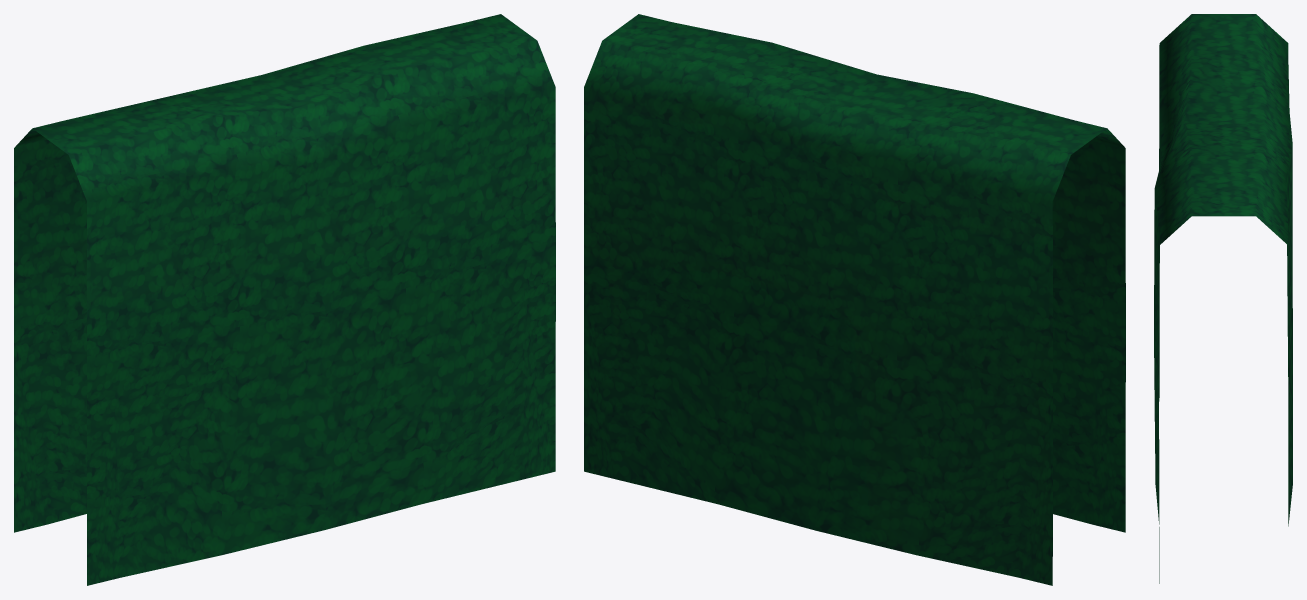
File: SM_Haie.fbx
3 renders of one model, left to right at view 1: azimuth 30°, elevation 25°; view 2: azimuth 150°, elevation 25°; view 3: azimuth 270°, elevation 25°, orthographic. The views are drawn at different scales.
Parts seen in each view (by area): view 1: pCube1; view 2: pCube1; view 3: pCube1.
Boxes of the visible parts, <box> form: pCube1: <box>14,14,555,585</box>; pCube1: <box>584,14,1125,585</box>; pCube1: <box>1154,14,1292,583</box>.
Size of the model in its own units: 307 by 264 by 89.15.
